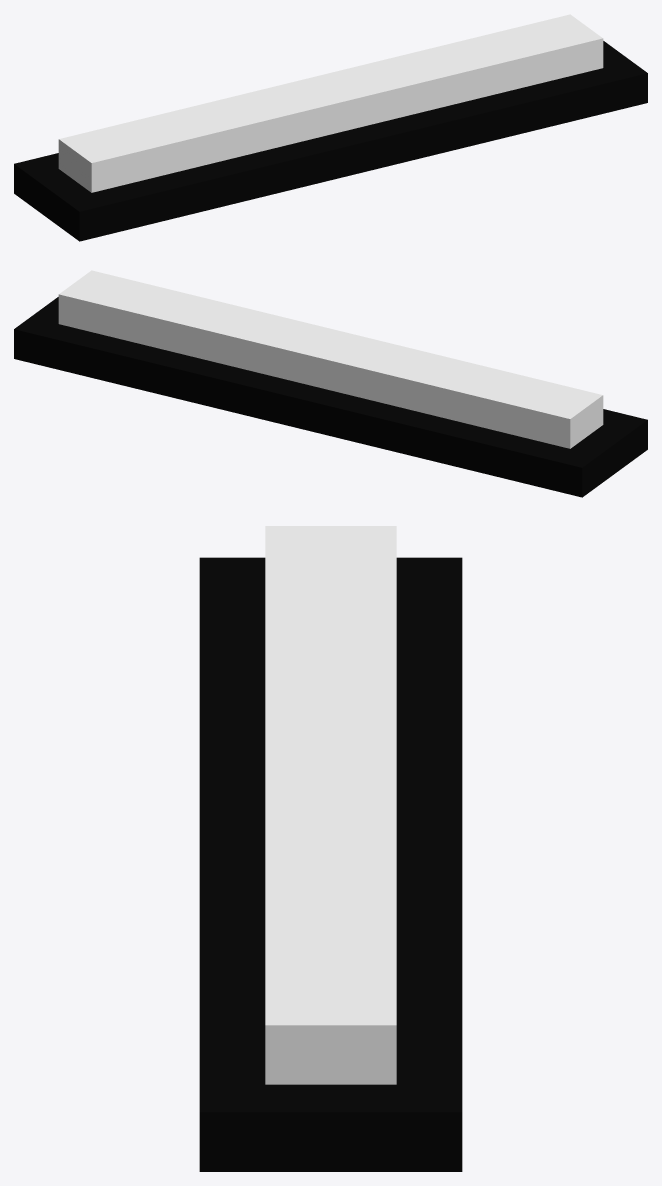
Rendered from Light.fbx.
The picture shows the model from 3 angles, top to bottom: view 1: azimuth 30°, elevation 25°; view 2: azimuth 150°, elevation 25°; view 3: azimuth 270°, elevation 25°; orthographic projection. The views are drawn at different scales.
Visible parts, largest first — view 1: Matrix; view 2: Matrix; view 3: Matrix.
Part boxes in pixels (box(x1,y1,x2,y2)): Matrix: box(14, 14, 647, 241); Matrix: box(14, 270, 647, 497); Matrix: box(199, 526, 462, 1171).
Bounding box in the file's own units: 20 × 2 × 4.
1 material, 1 textured.
